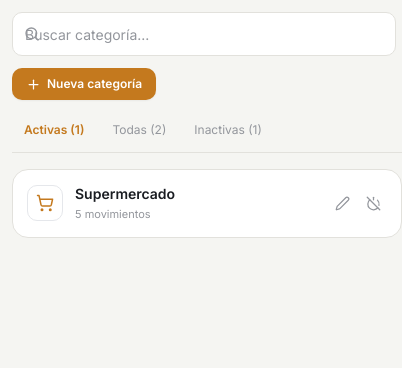
Test case: CategoryList › filtra por término de búsqueda
Type "Super" into the field with placeholder "Buscar categoría..." at (204, 34), box [12,12,396,56]
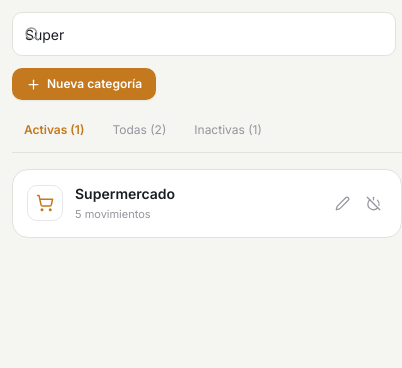
expect the text "Supermercado" is shown: met, box [75,184,175,204]
Replace the text in the field with placeholder "Buscar categoría..." with "Inexistente" at (204, 34), box [12,12,396,56]
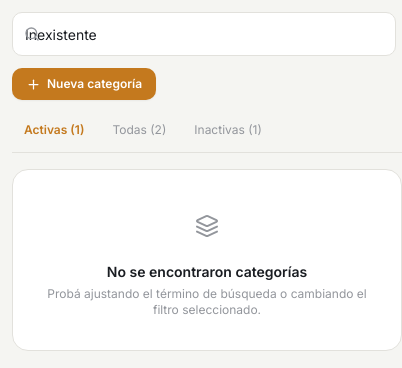
expect the text "Supermercado" is gone: met
